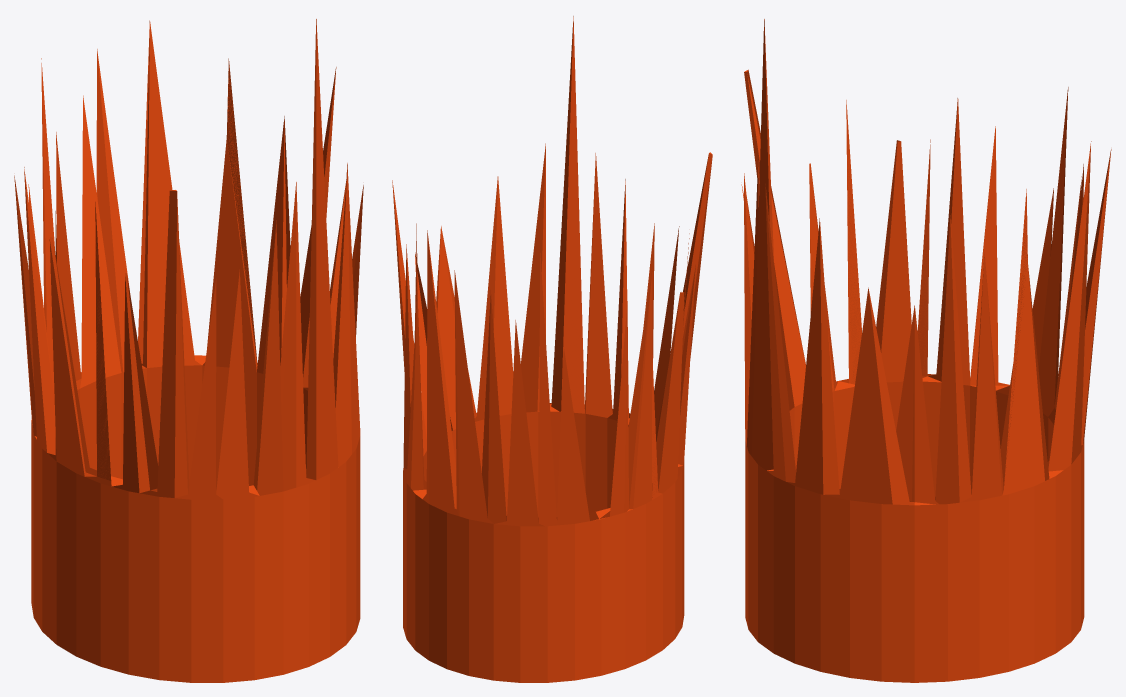
The model's file is fire.fbx.
3 views of the same model, side by side, from view 1: azimuth 30°, elevation 25°; view 2: azimuth 150°, elevation 25°; view 3: azimuth 270°, elevation 25° (orthographic). The views are drawn at different scales.
Visible parts, largest first — view 1: Cylinder; view 2: Cylinder; view 3: Cylinder.
Boxes of the visible parts, left/top/right/bottom form: Cylinder: left=14, top=19, right=363, bottom=682; Cylinder: left=392, top=16, right=712, bottom=682; Cylinder: left=741, top=19, right=1111, bottom=682.
Size of the model in its own units: 51.86 by 101 by 54.59.
